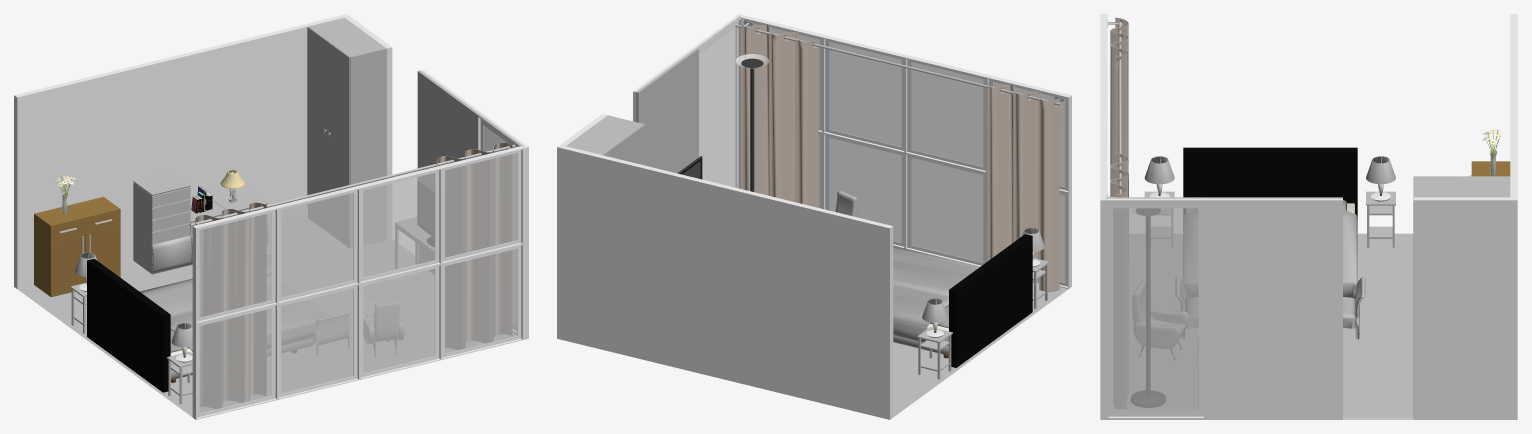
Rendered from PresidentialSuite.fbx.
3 views of the same model, side by side, from view 1: azimuth 30°, elevation 25°; view 2: azimuth 150°, elevation 25°; view 3: azimuth 270°, elevation 25° (orthographic). The views are drawn at different scales.
Parts seen in each view (by area): view 1: Room Presidential Suite; view 2: Room Presidential Suite; view 3: Room Presidential Suite.
Boxes of the visible parts, x1,y1,x2,y2 form: Room Presidential Suite: (14,14,528,419); Room Presidential Suite: (557,14,1071,419); Room Presidential Suite: (1100,14,1517,419).
Size of the model in its own units: 8033 by 4416 by 7604.
